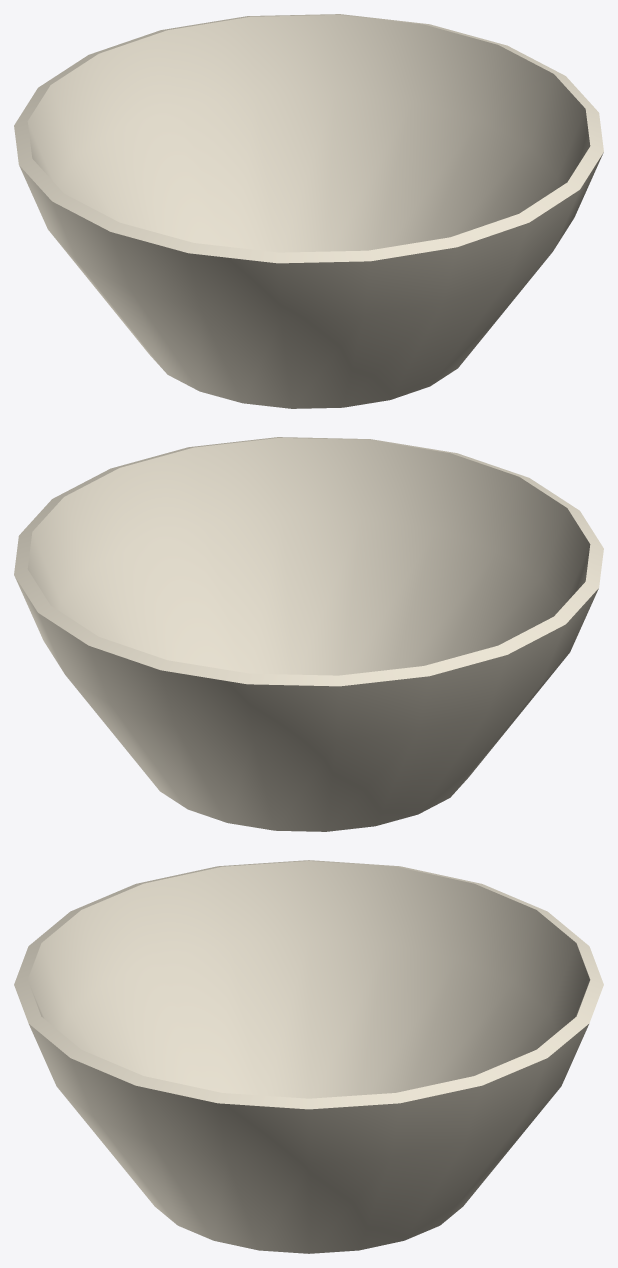
Rendered from tpl_cucina_bowl.glb.
The picture shows the model from 3 angles, top to bottom: view 1: azimuth 30°, elevation 25°; view 2: azimuth 150°, elevation 25°; view 3: azimuth 270°, elevation 25°; orthographic projection.
Parts seen in each view (by area): view 1: tpl_cucina_bowl; view 2: tpl_cucina_bowl; view 3: tpl_cucina_bowl.
Part boxes in pixels (<box>): tpl_cucina_bowl: <box>14,14,603,408</box>; tpl_cucina_bowl: <box>14,437,603,831</box>; tpl_cucina_bowl: <box>14,860,603,1253</box>.
Bounding box in the file's own units: 0.16 × 0.0615 × 0.16.
